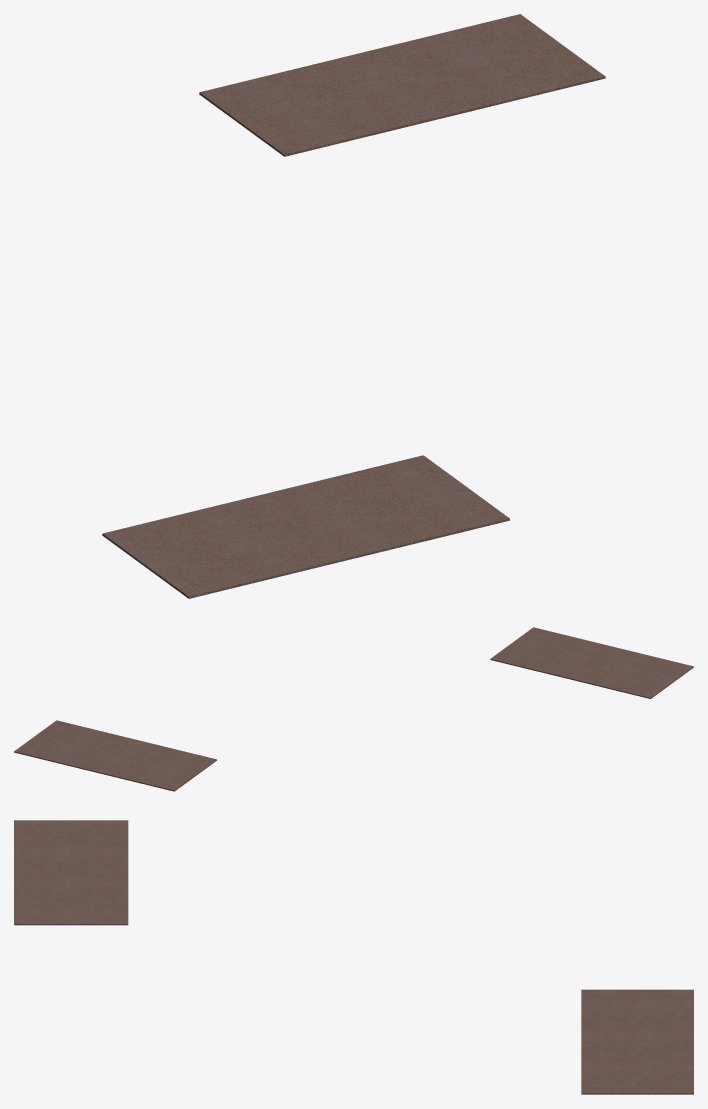
Rendered from SM_NeoLD_05_WireMesh_00_Col.fbx.
3 renders of one model, top to bottom at view 1: azimuth 30°, elevation 25°; view 2: azimuth 150°, elevation 25°; view 3: azimuth 270°, elevation 25°, orthographic. The views are drawn at different scales.
Visible parts, largest first — view 1: SM_NeoLD_05_WireMesh_00_Col; view 2: SM_NeoLD_05_WireMesh_00_Col; view 3: SM_NeoLD_05_WireMesh_00_Col.
Boxes of the visible parts, x1=… form: SM_NeoLD_05_WireMesh_00_Col: x1=102, y1=14, x2=605, y2=598; SM_NeoLD_05_WireMesh_00_Col: x1=14, y1=627, x2=693, y2=791; SM_NeoLD_05_WireMesh_00_Col: x1=14, y1=820, x2=693, y2=1094.
Size of the model in its own units: 2034 by 4.93 by 2143.
